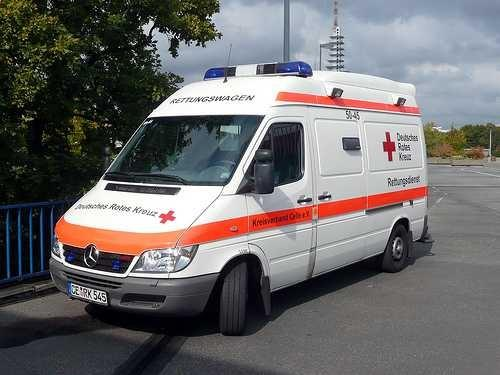car: (48, 59, 432, 336)
